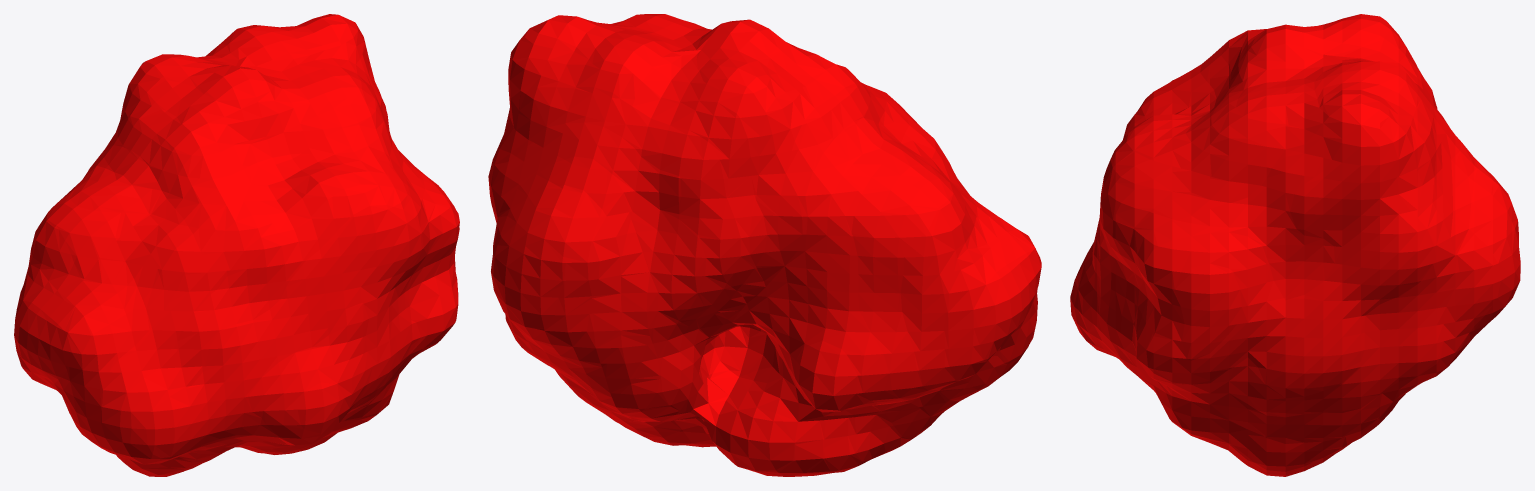
File: hemE_coarse.dae
3 views of the same model, side by side, from view 1: azimuth 30°, elevation 25°; view 2: azimuth 150°, elevation 25°; view 3: azimuth 270°, elevation 25° (orthographic). The views are drawn at different scales.
Parts seen in each view (by area): view 1: hemE; view 2: hemE; view 3: hemE.
Boxes of the visible parts, x1,y1,x2,y2 form: hemE: (14,14,459,476); hemE: (488,14,1041,476); hemE: (1070,14,1520,476).
Size of the model in its own units: 58.58 by 53.1 by 52.65.
